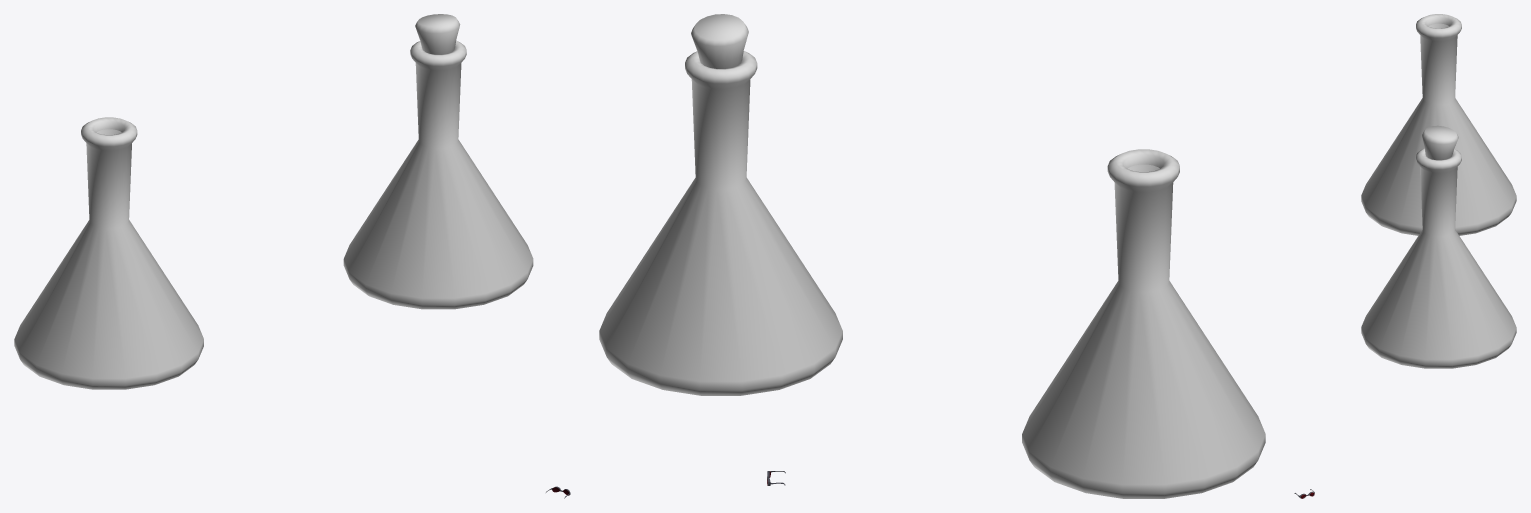
Rendered from HealingPotionEmpty.fbx.
3 views of the same model, side by side, from view 1: azimuth 30°, elevation 25°; view 2: azimuth 150°, elevation 25°; view 3: azimuth 270°, elevation 25° (orthographic). The views are drawn at different scales.
Parts seen in each view (by area): view 1: mdlHealingPotionEmpty, mdlHealingPotion, mdlHealingPotionCorkLiquid; view 2: mdlHealingPotionEmpty, mdlHealingPotion, mdlHealingPotionCorkLiquid; view 3: mdlHealingPotion, mdlHealingPotionEmpty, mdlHealingPotionCorkLiquid.
Boxes of the visible parts, box(x1,y1,x2,y2) form: mdlHealingPotionEmpty: box(14, 117, 203, 389); mdlHealingPotion: box(343, 40, 533, 309); mdlHealingPotionCorkLiquid: box(415, 14, 460, 54); mdlHealingPotionEmpty: box(1022, 149, 1265, 498); mdlHealingPotion: box(599, 51, 842, 395); mdlHealingPotionCorkLiquid: box(691, 14, 748, 68); mdlHealingPotion: box(1361, 148, 1516, 368); mdlHealingPotionEmpty: box(1361, 14, 1516, 235); mdlHealingPotionCorkLiquid: box(1422, 125, 1458, 160).
Size of the model in its own units: 5.51 by 4.57 by 2.64.
Materials: 2 (1 with a texture image).
